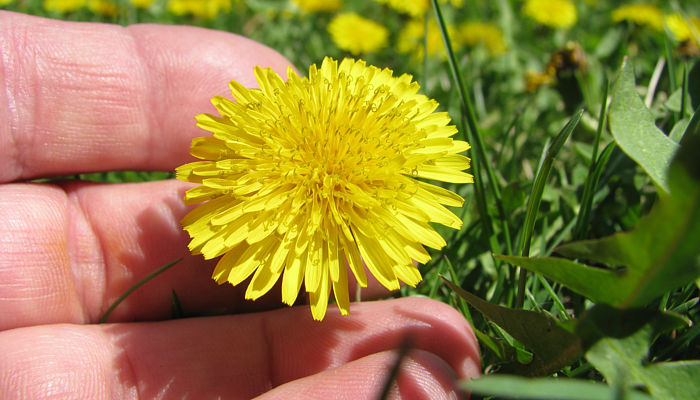dandelion: (169, 59, 472, 303)
